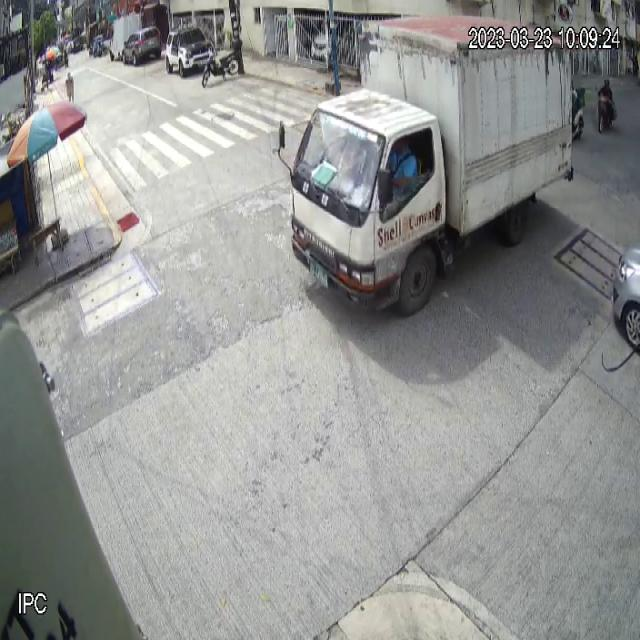Truck: (288, 13, 574, 319)
